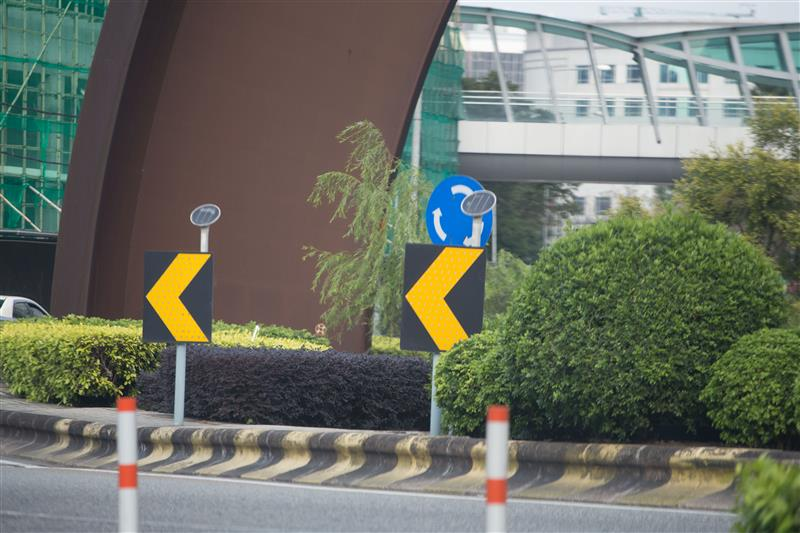roundabout: (426, 175, 495, 253)
